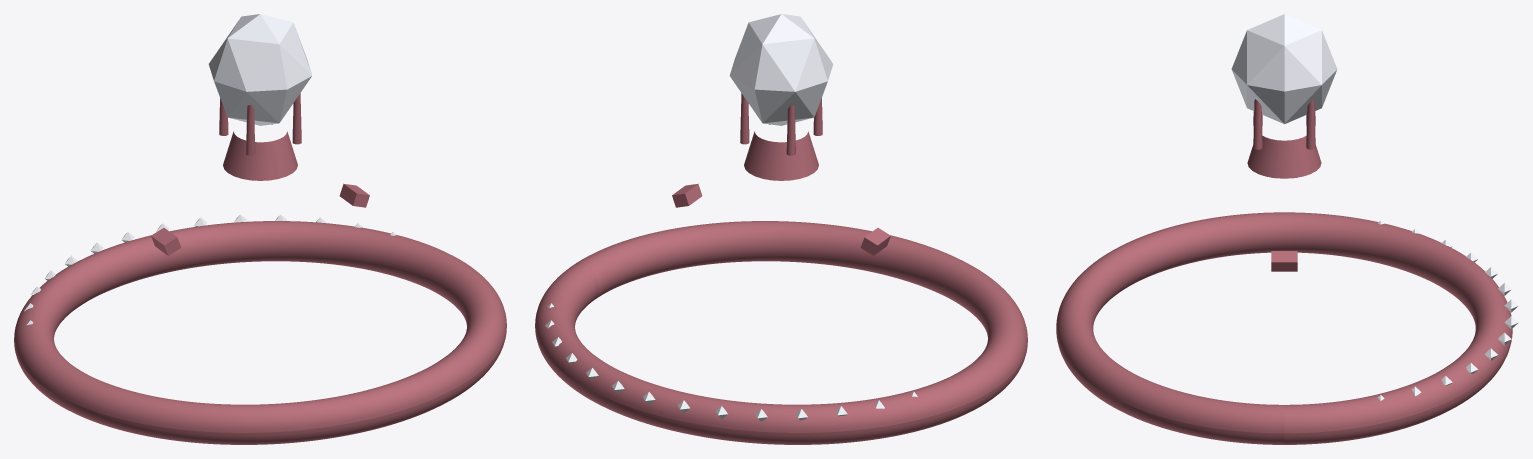
File: ring-pave-rose.glb
3 views of the same model, side by side, from view 1: azimuth 30°, elevation 25°; view 2: azimuth 150°, elevation 25°; view 3: azimuth 270°, elevation 25° (orthographic).
Size of the model in its own units: 1.87 by 1.39 by 1.75.
